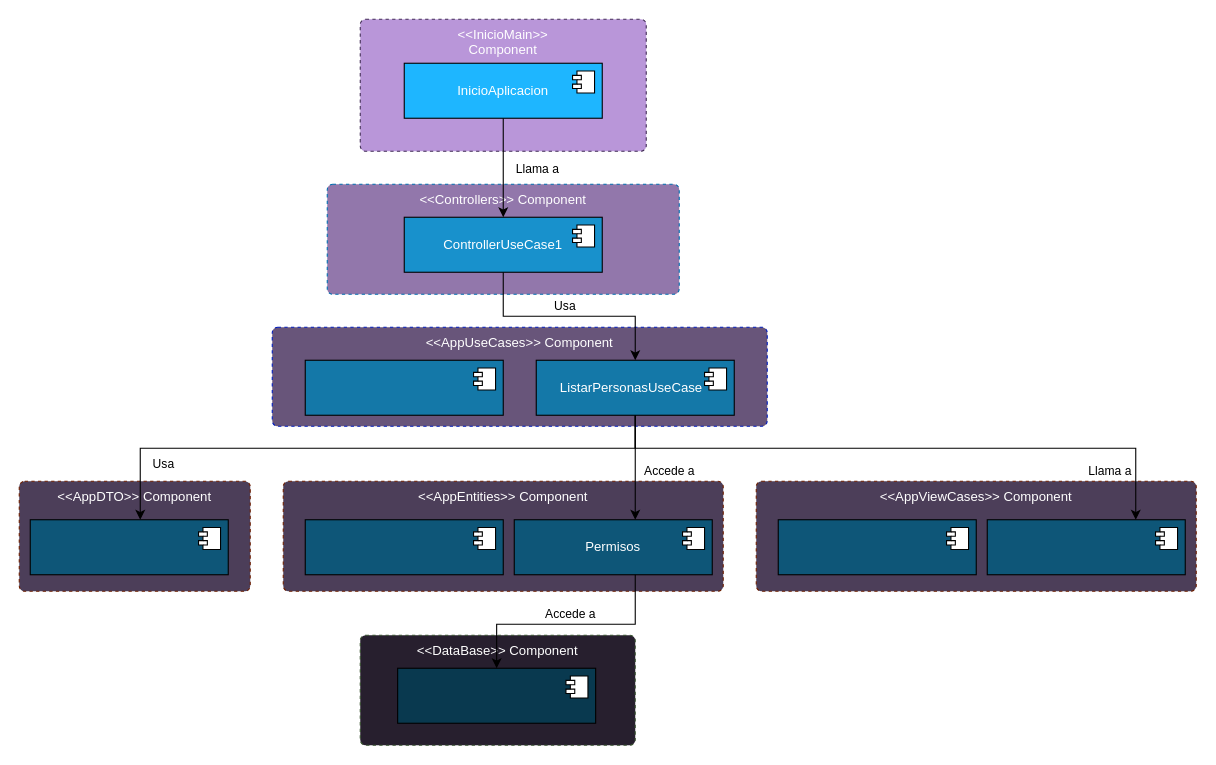
The diagram is 1216 pixels wide and 765 high, and some of its shapes have lost their labels. Each missing label, with the centre of its shape:
ConnectDataBase: point 496,695
CrearPersonaView: point 1085,547
ListarPersonaView: point 876,547
Permissions: point 403,547
PersonaDTO: point 128,547
UseCaseFactory: point 403,387
